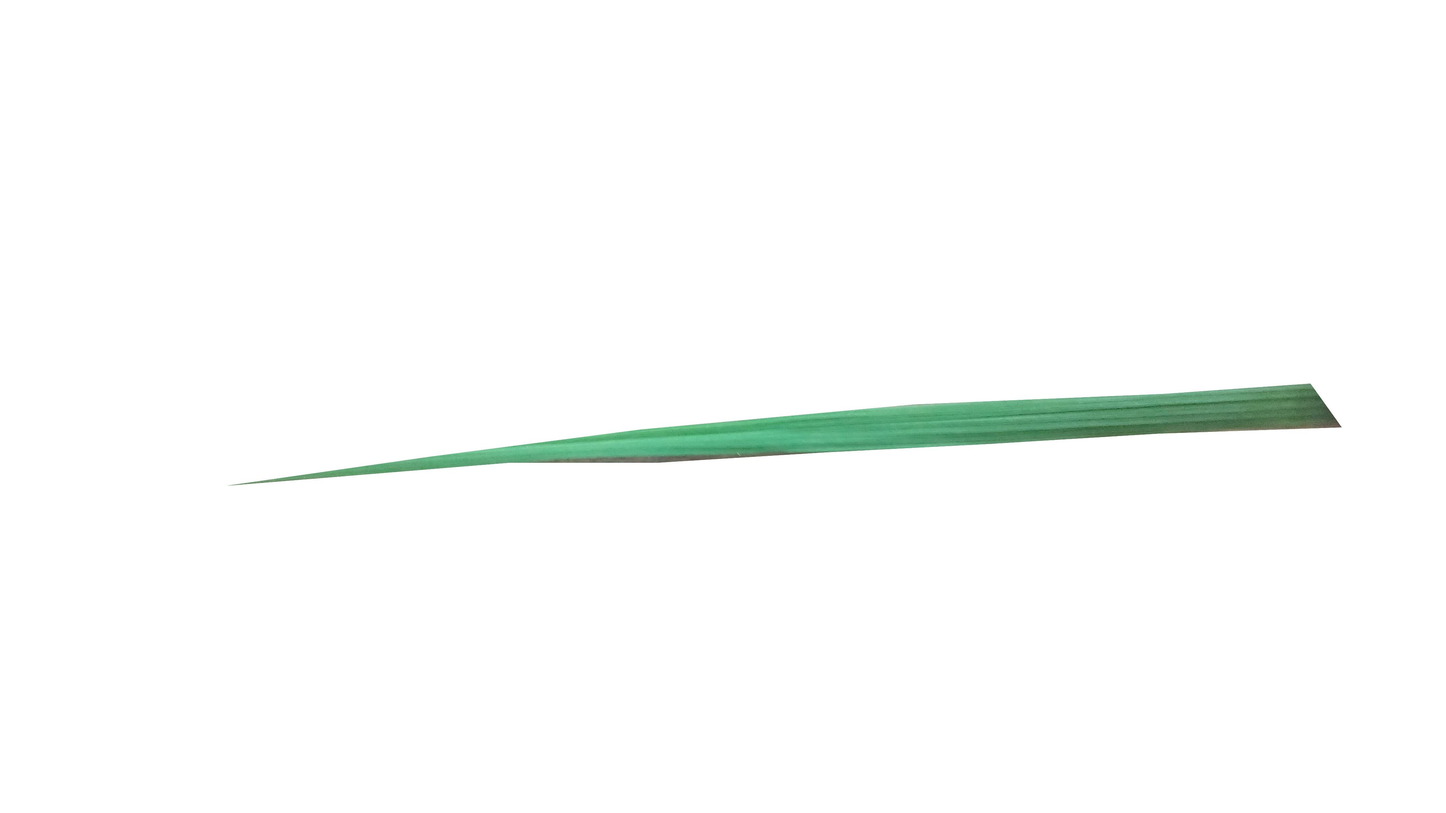Healthy: (269, 388, 1346, 485)
